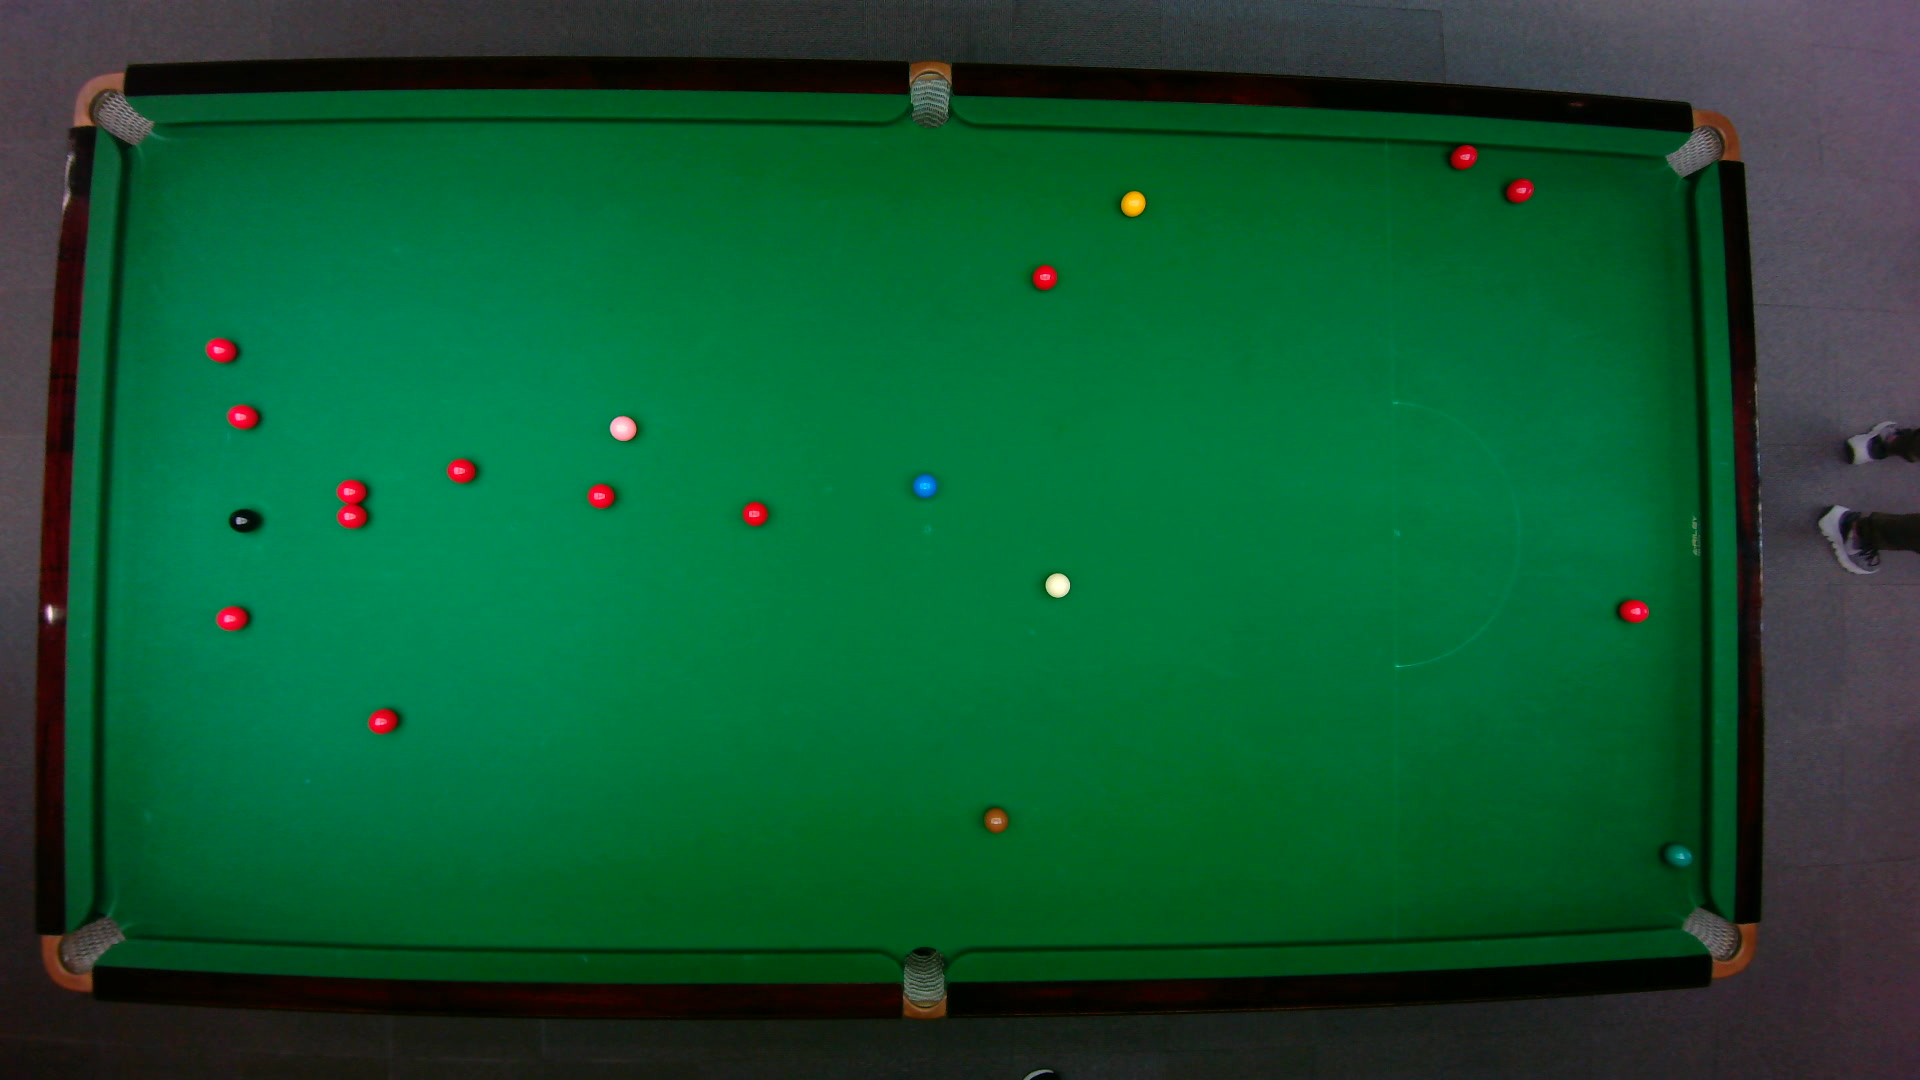bag: (38, 913, 127, 992), (71, 71, 156, 148), (1677, 905, 1760, 978), (1663, 108, 1741, 179), (902, 944, 947, 1021), (909, 59, 953, 131)
black: (227, 506, 261, 534)
blue: (911, 473, 939, 500)
brown: (982, 806, 1010, 833)
green: (1662, 841, 1695, 870)
pink: (607, 414, 640, 443)
red: (224, 402, 261, 433), (203, 335, 240, 365), (214, 604, 251, 633), (367, 707, 401, 736), (334, 477, 371, 504), (334, 504, 371, 530), (1447, 142, 1480, 171), (1617, 597, 1651, 625), (444, 458, 479, 485), (585, 483, 617, 512), (1505, 175, 1535, 204), (1030, 262, 1059, 291), (740, 500, 770, 527)
white: (1043, 571, 1073, 600)
yellow: (1118, 189, 1149, 219)
zone: (1391, 400, 1519, 667)
